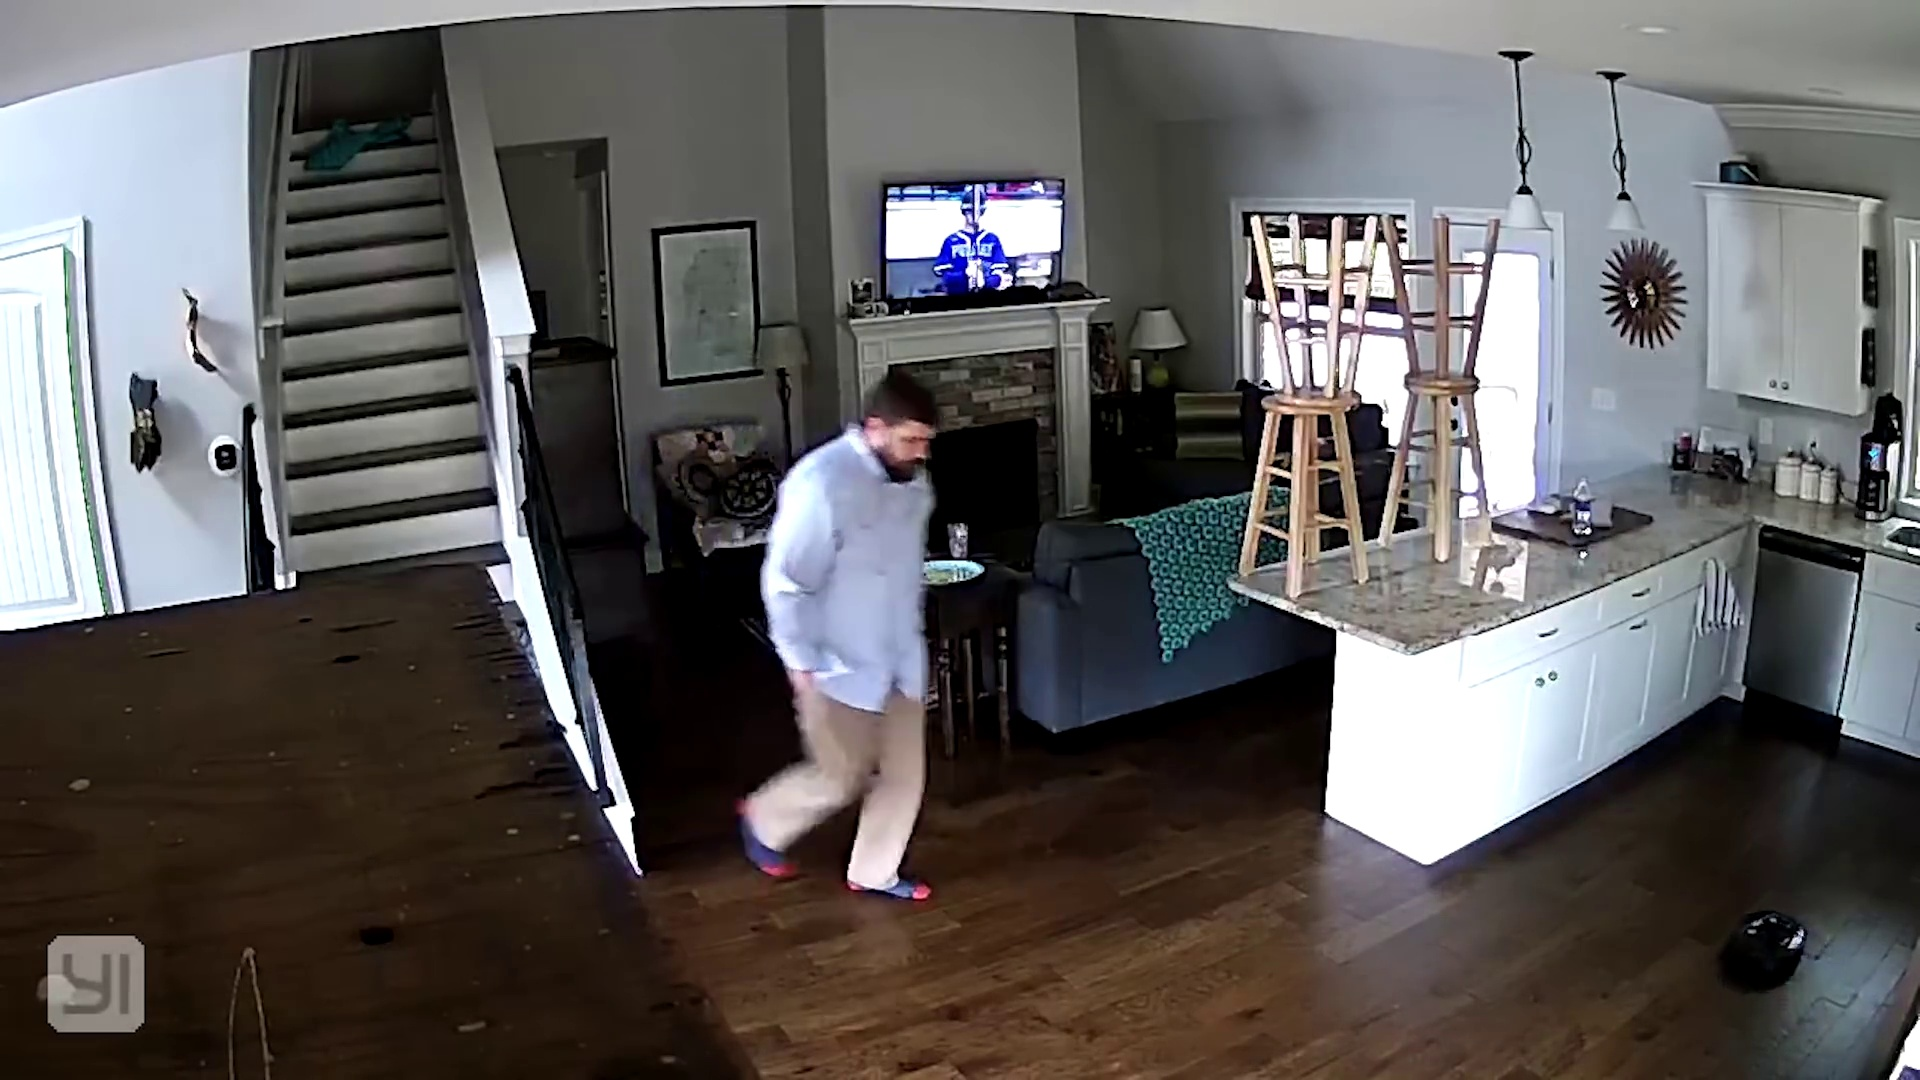face: (888, 418, 937, 477)
